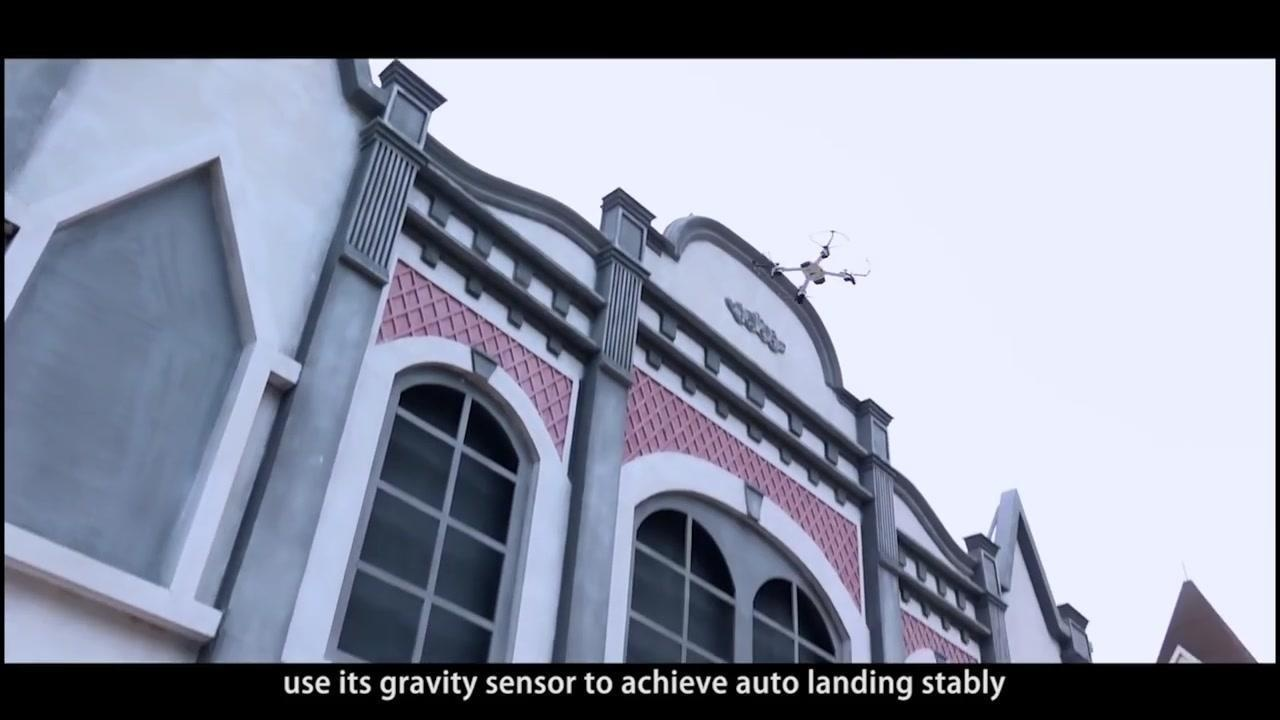UAV: (770, 231, 872, 305)
